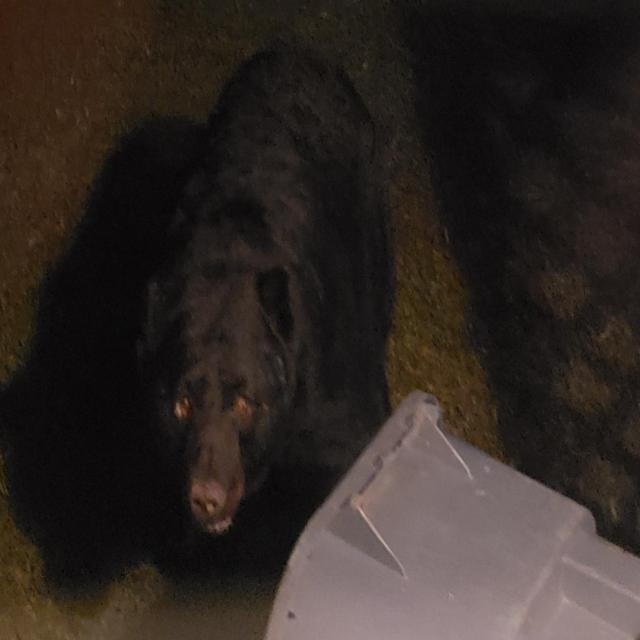Bear: (149, 64, 393, 537)
